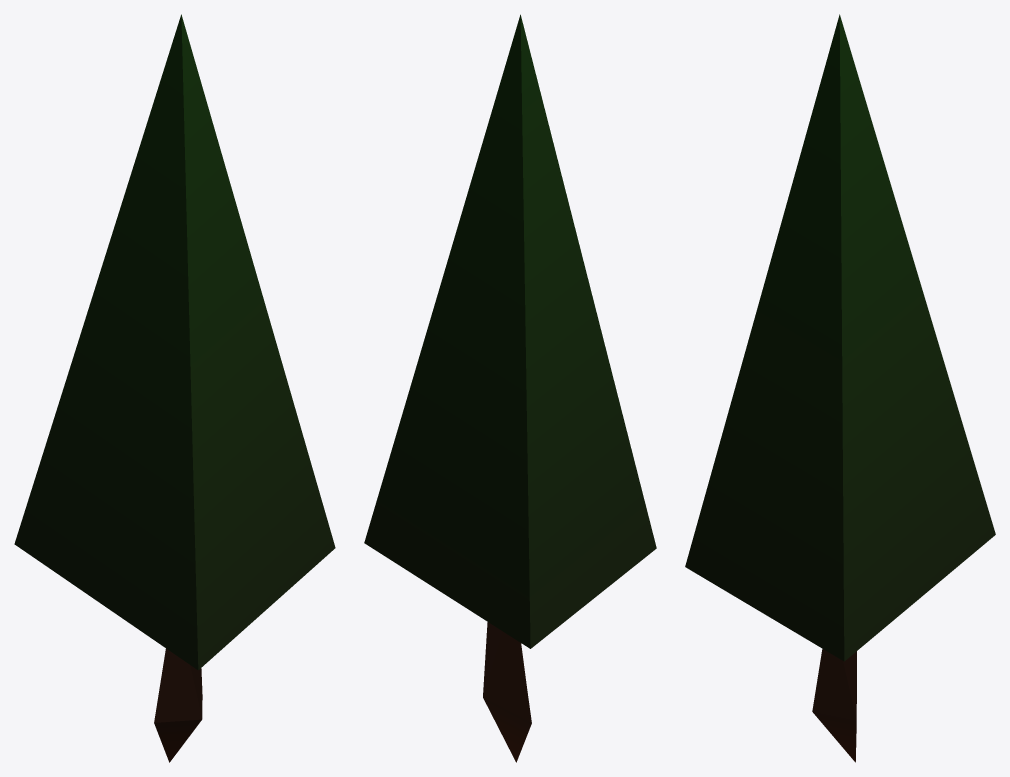
The model's file is c_tree_pine_aa.fbx.
The picture shows the model from 3 angles, left to right: view 1: azimuth 30°, elevation 25°; view 2: azimuth 150°, elevation 25°; view 3: azimuth 270°, elevation 25°; orthographic projection.
Visible parts, largest first — view 1: c_tree_pine_aa; view 2: c_tree_pine_aa; view 3: c_tree_pine_aa.
Part boxes in pixels (x1,y1,x2,y2): c_tree_pine_aa: [14, 14, 335, 762]; c_tree_pine_aa: [364, 14, 656, 762]; c_tree_pine_aa: [685, 14, 995, 762].
Size of the model in its own units: 3.65 by 10.72 by 4.02.
